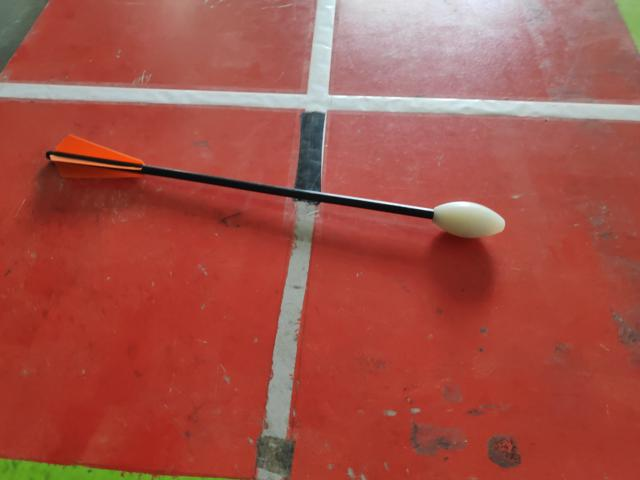Head: (429, 198, 508, 241)
Tail: (43, 131, 148, 180)
